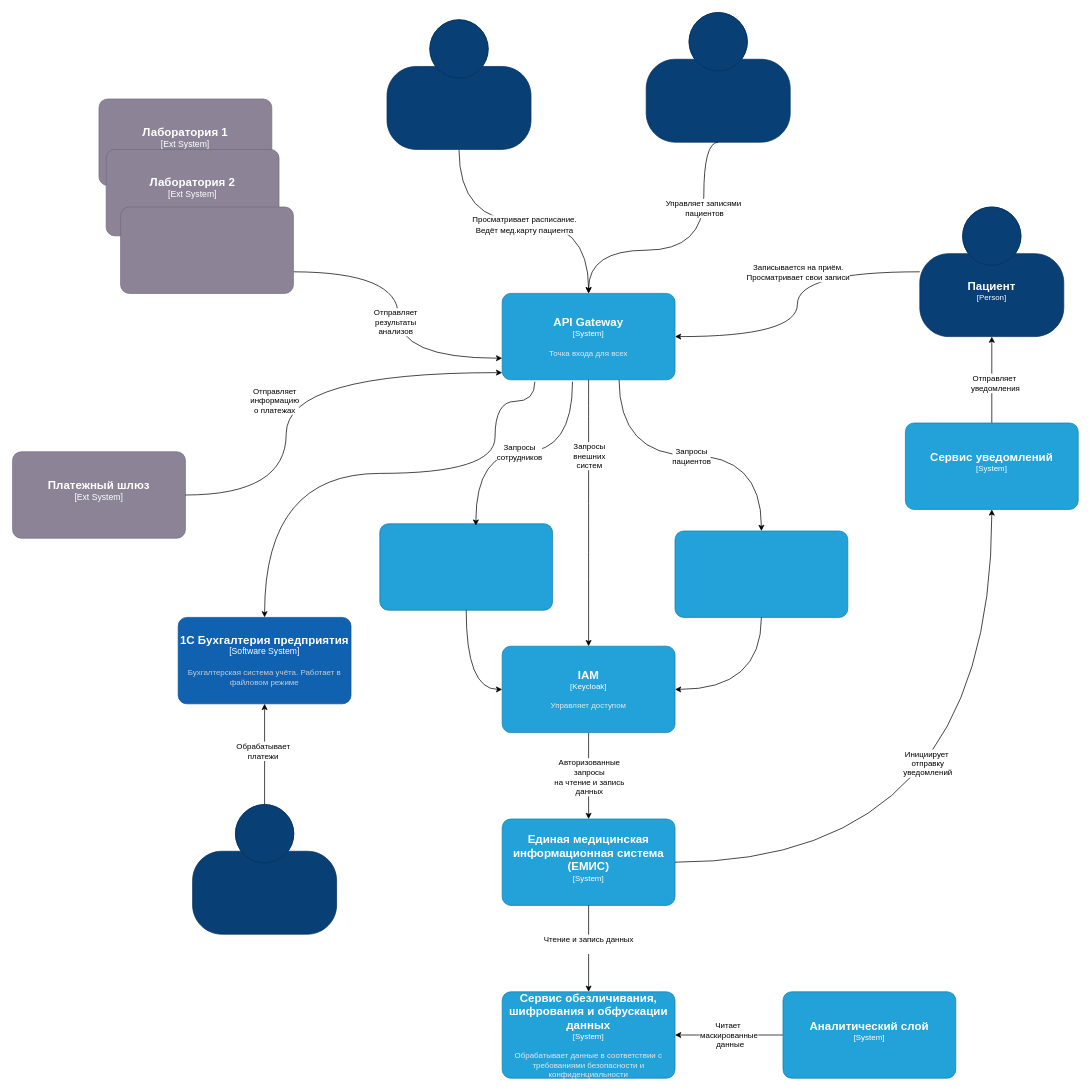
Some shapes in this 1091 by 1092 pixel diagram are drawn without their labels. Each missing label, with the centre of its shape:
"Бухгалтер [Person]" belongs at (264,869).
"Врач [Person]" belongs at (458,84).
"Лаборатория ... [Ext System]" belongs at (206,249).
"Портал для сотрудников [System]" belongs at (466,566).
"Портал пациента [System]" belongs at (761,573).
"Сотрудник ресепшена [Person]" belongs at (717,77).
